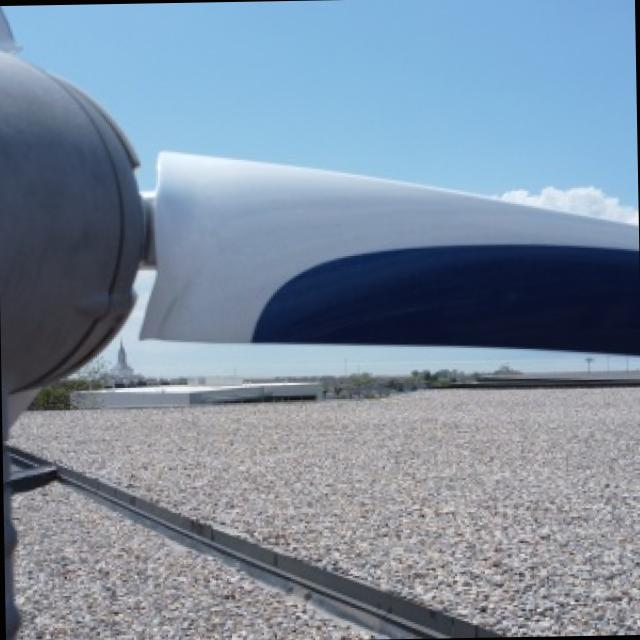healthy: (0, 14, 638, 439)
